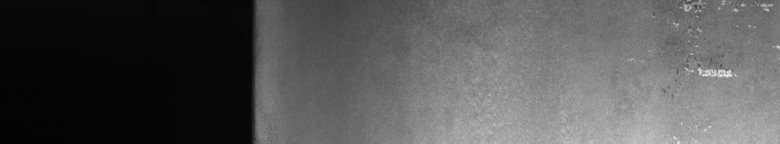hc: (628, 4, 776, 131)
